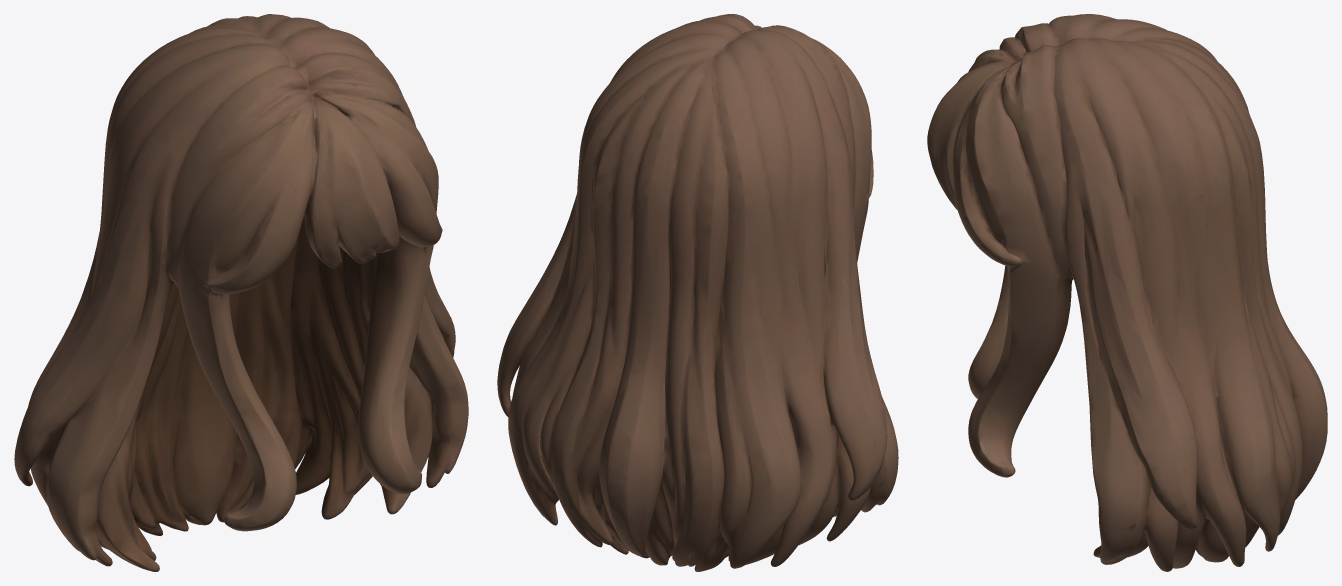
Rendered from hair_f01.glb.
The picture shows the model from 3 angles, left to right: view 1: azimuth 30°, elevation 25°; view 2: azimuth 150°, elevation 25°; view 3: azimuth 270°, elevation 25°; orthographic projection. The views are drawn at different scales.
Visible parts, largest first — view 1: hair; view 2: hair; view 3: hair.
Boxes of the visible parts, x1,y1,x2,y2 form: hair: [14, 14, 468, 571]; hair: [497, 14, 898, 571]; hair: [927, 14, 1327, 571].
Bounding box in the file's own units: 3.41 × 4.12 × 2.97.
1 material, 1 textured.
